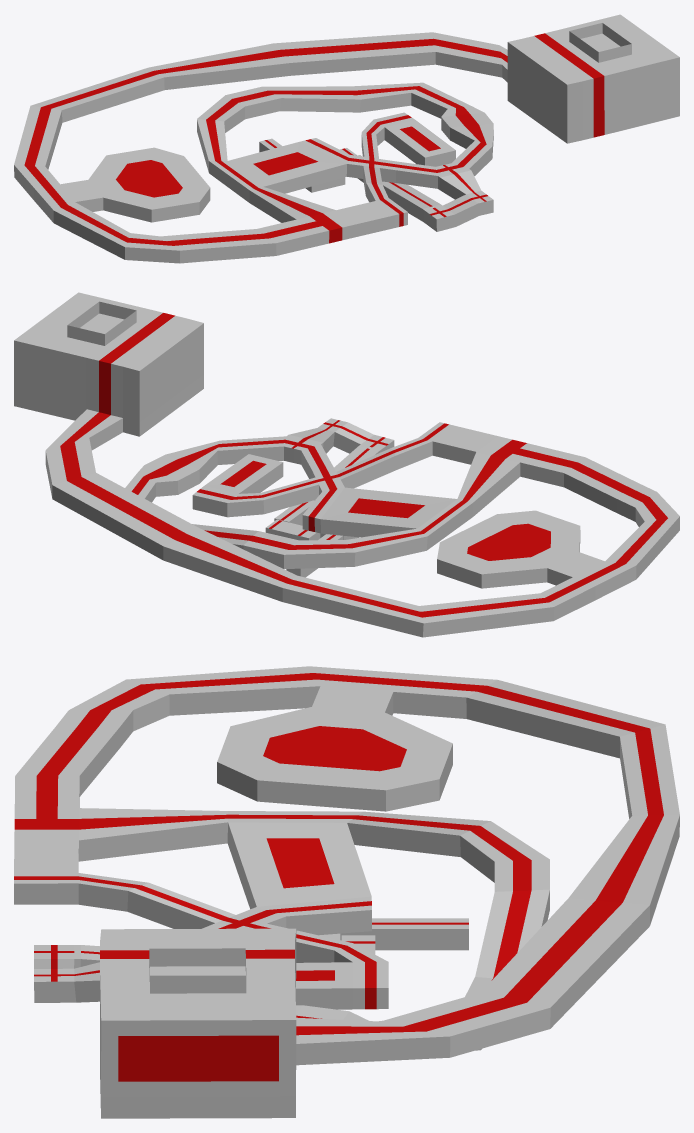
The model's file is InteriorTest.fbx.
3 views of the same model, one above another, from view 1: azimuth 30°, elevation 25°; view 2: azimuth 150°, elevation 25°; view 3: azimuth 270°, elevation 25° (orthographic). The views are drawn at different scales.
Parts seen in each view (by area): view 1: main; view 2: main; view 3: main.
Part boxes in pixels (box(x1,y1,x2,y2)): main: box(14, 14, 679, 263); main: box(14, 292, 679, 637); main: box(14, 666, 679, 1118).
Bounding box in the file's own units: 22994 × 14163 × 4418.
